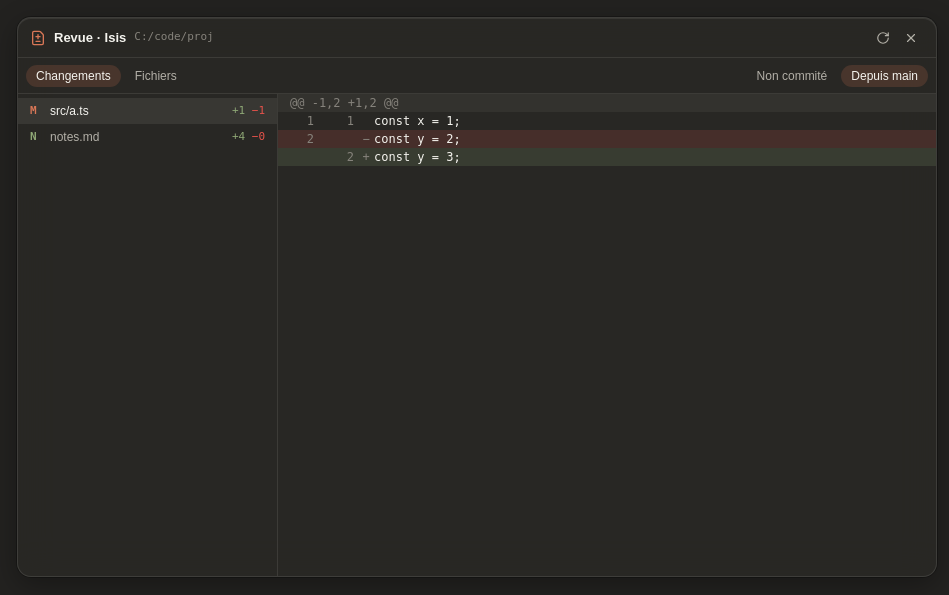
Test: browses the repository's files, read-only
Click the tab "Fichiers": click(156, 76) [125,64,187,86]
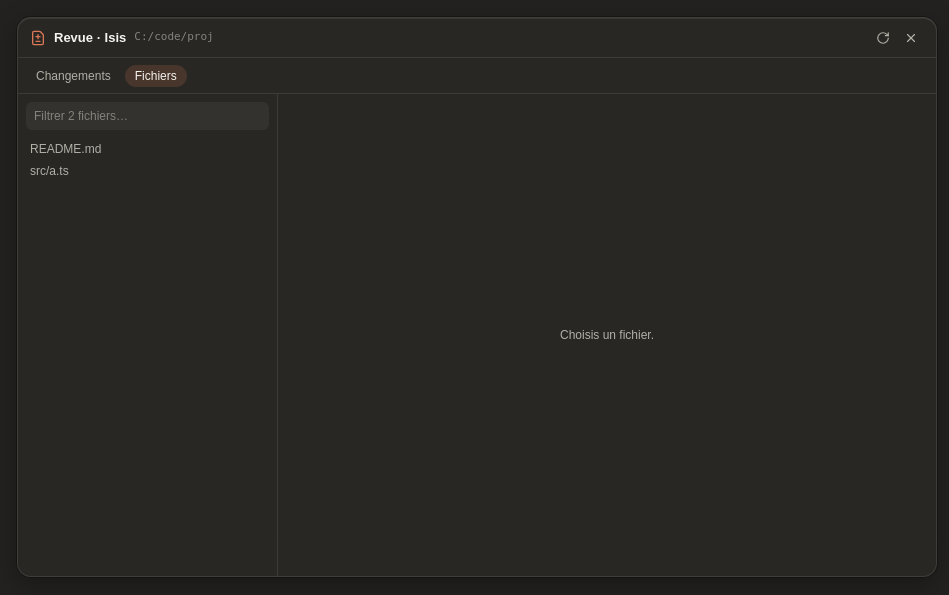
Expected: the text "README.md" is shown
Click the button "README.md": click(148, 149) [18,138,277,160]
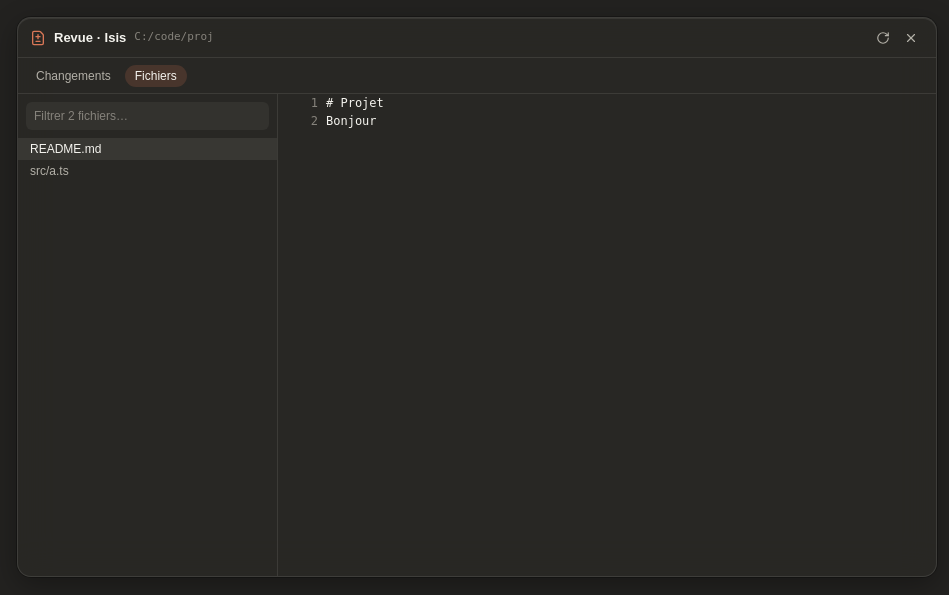
Expected: the text "Bonjour" is shown, [326,114,377,128]
